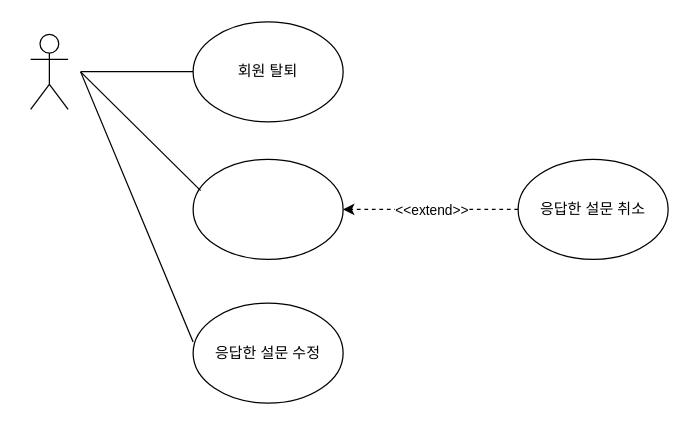
The diagram is 690 pixels wide and 425 high, and some of its shapes have lost their labels. The box of each missing label's shape, as (x1, y1, x2, y2) in pixels:
Member: (29, 33, 68, 109)
응답한 설문 조회: (192, 158, 343, 259)
